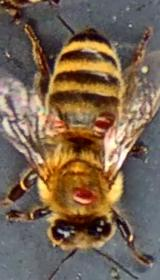varroa_mite: (81, 104, 120, 143), (70, 179, 100, 209)
